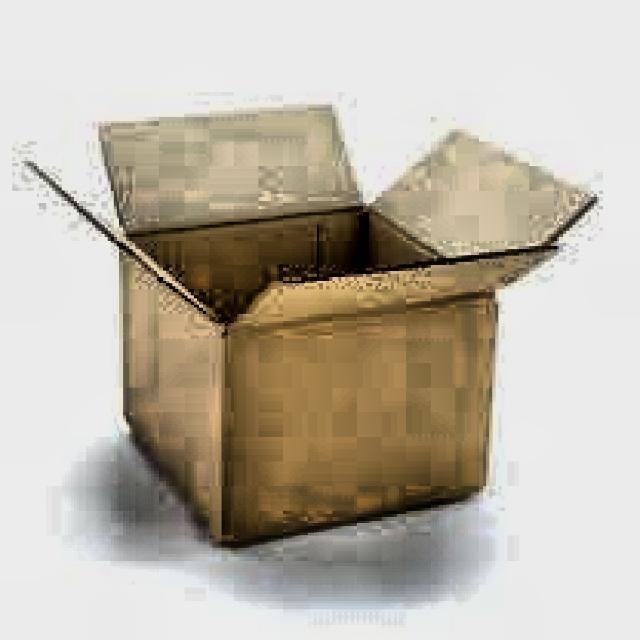cardboard: (24, 98, 600, 544)
